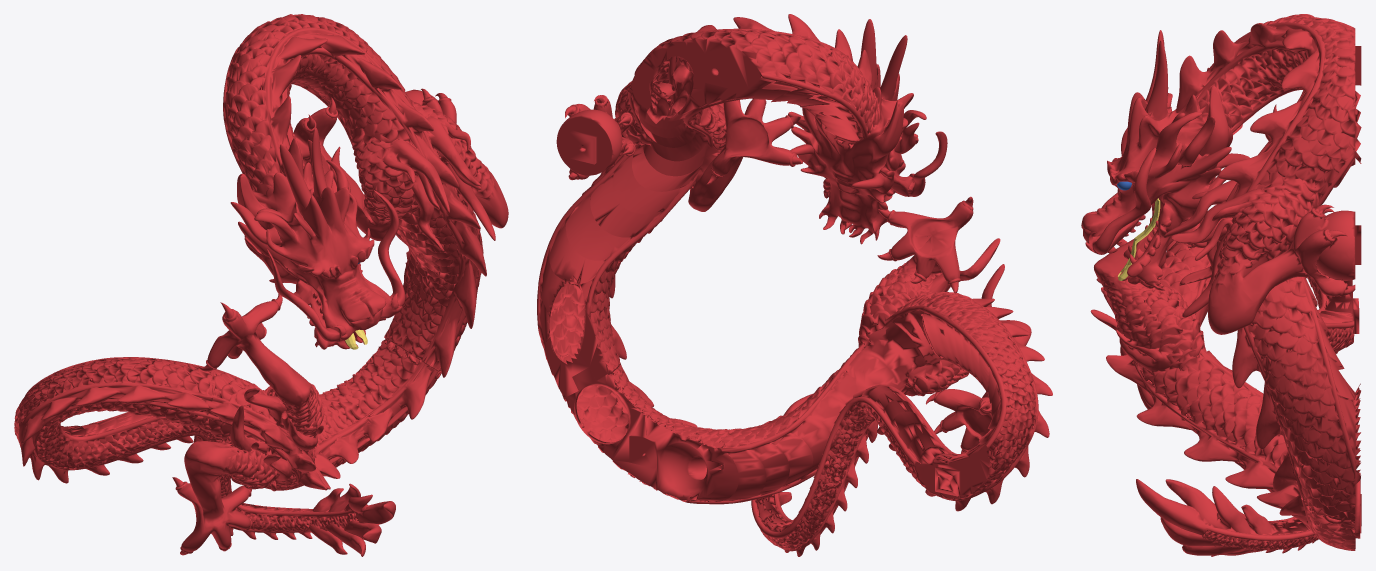
The model's file is dragon_v4_crimson_dragon.glb.
3 views of the same model, side by side, from view 1: azimuth 30°, elevation 25°; view 2: azimuth 150°, elevation 25°; view 3: azimuth 270°, elevation 25° (orthographic). The views are drawn at different scales.
Parts seen in each view (by area): view 1: dragonGeo:Original Dragon STL; view 2: dragonGeo:Original Dragon STL; view 3: dragonGeo:Original Dragon STL, dragonGeo:polySurface1.
Part boxes in pixels (x1,y1,x2,y2): dragonGeo:Original Dragon STL: [14, 14, 508, 556]; dragonGeo:Original Dragon STL: [537, 14, 1052, 556]; dragonGeo:Original Dragon STL: [1081, 14, 1361, 556]; dragonGeo:polySurface1: [1117, 198, 1160, 280].
Size of the model in its own units: 0.0391 by 0.04 by 0.019.
